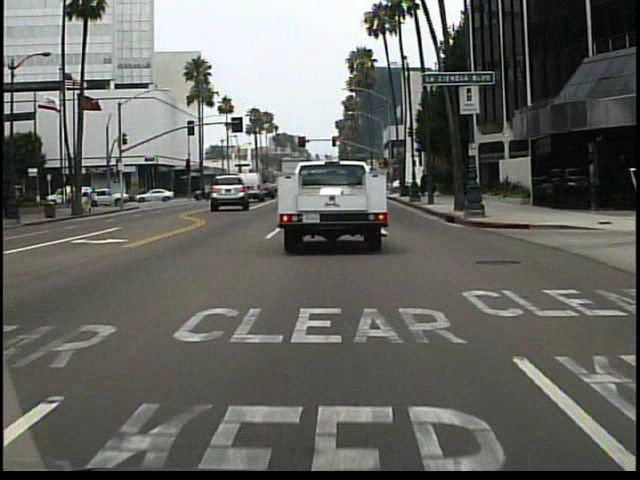person: (88, 187, 101, 213)
